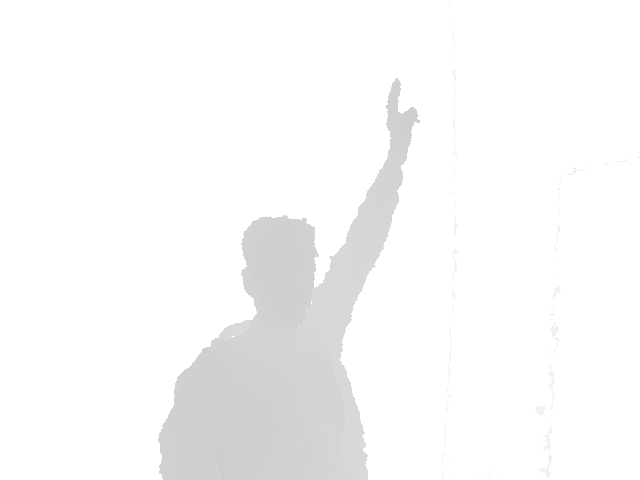hand: (385, 76, 421, 150)
head: (240, 216, 320, 325)
person: (156, 76, 421, 480)
